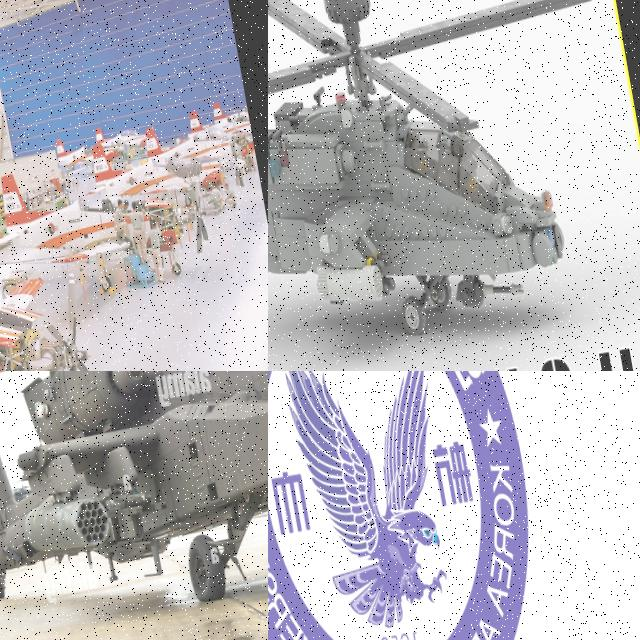Apache: (268, 0, 640, 371), (0, 371, 268, 640)
KAU_Marker: (268, 371, 569, 640)
KT-1: (0, 140, 196, 304), (152, 110, 246, 190)
